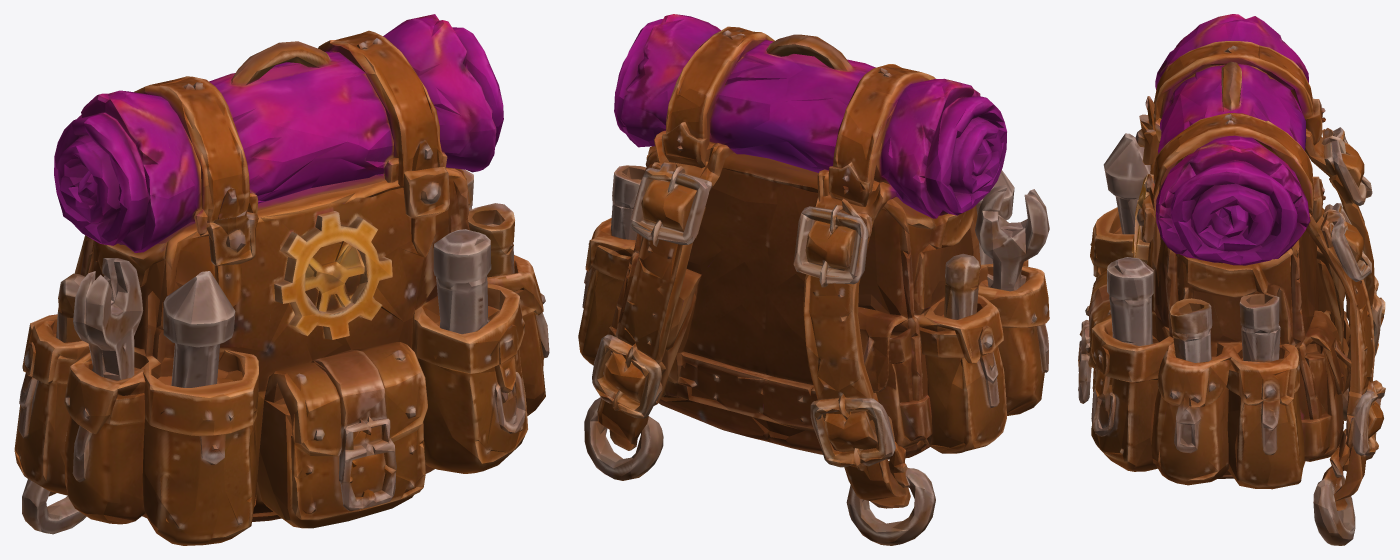
The model's file is backpack.glb.
3 views of the same model, side by side, from view 1: azimuth 30°, elevation 25°; view 2: azimuth 150°, elevation 25°; view 3: azimuth 270°, elevation 25° (orthographic). The views are drawn at different scales.
Visible parts, largest first — view 1: Mesh_0; view 2: Mesh_0; view 3: Mesh_0.
Part boxes in pixels (x1,y1,x2,y2): Mesh_0: [14, 14, 549, 545]; Mesh_0: [578, 14, 1049, 545]; Mesh_0: [1078, 14, 1385, 545].
Bounding box in the file's own units: 1.9 × 1.89 × 1.27.
Materials: 1 (1 with a texture image).
